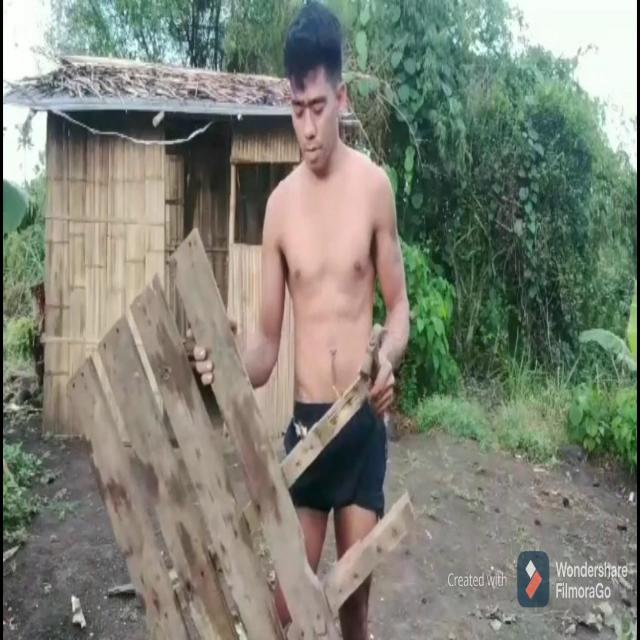hammer: (360, 324, 388, 383)
